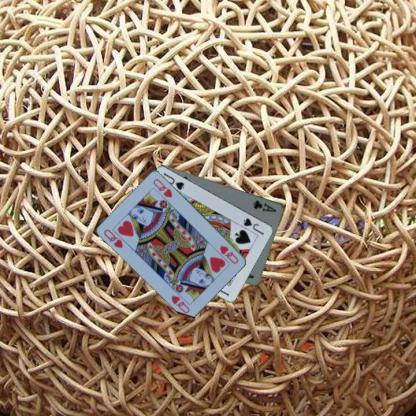Ac: (250, 198, 278, 213)
Js: (241, 216, 265, 236)
Qh: (101, 227, 125, 250), (217, 243, 240, 265)
